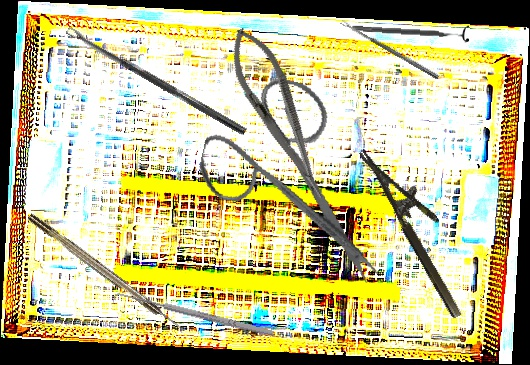Fixation Ring: (351, 18, 470, 44)
Hook Surgical: (26, 211, 188, 336), (112, 288, 275, 344)
Iris Scissors: (182, 65, 416, 285)
Needle Holder: (217, 19, 340, 210), (359, 135, 484, 320)
Surgical Spoon: (65, 25, 248, 136), (340, 19, 440, 80)
